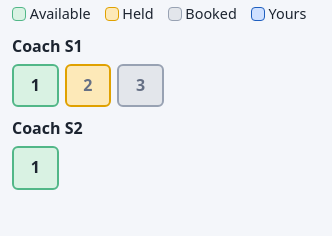
Test: booking a seat › explains a lost race and refreshes the map
The image size is (332, 236).
Click the button named "Seat S1-1, available": (35, 86) [12, 64, 59, 107]
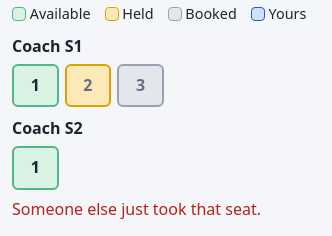
Check: the message shows "Someone else just took that seat", box [12, 198, 261, 220]
